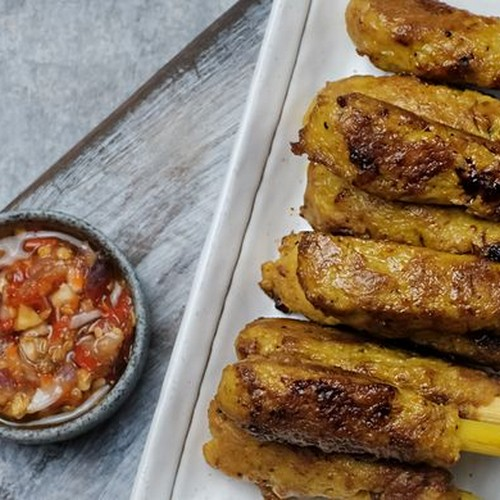sate lilit: (259, 205, 500, 500)
